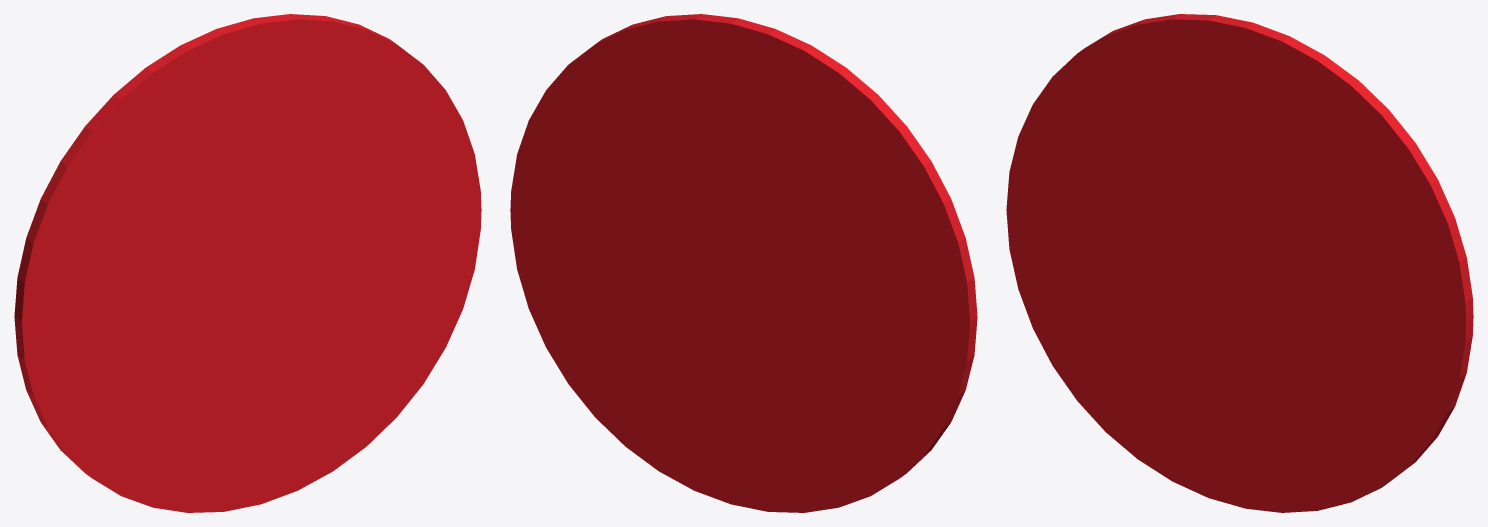
File: HolographicBarrier.fbx
3 views of the same model, side by side, from view 1: azimuth 30°, elevation 25°; view 2: azimuth 150°, elevation 25°; view 3: azimuth 330°, elevation 25° (orthographic).
Parts seen in each view (by area): view 1: HolographicBarrier; view 2: HolographicBarrier; view 3: HolographicBarrier.
Boxes of the visible parts, box(x1,y1,x2,y2) form: HolographicBarrier: box(14, 14, 481, 512); HolographicBarrier: box(510, 14, 977, 512); HolographicBarrier: box(1006, 14, 1473, 512).
Size of the model in its own units: 14.4 by 14.39 by 0.4.
